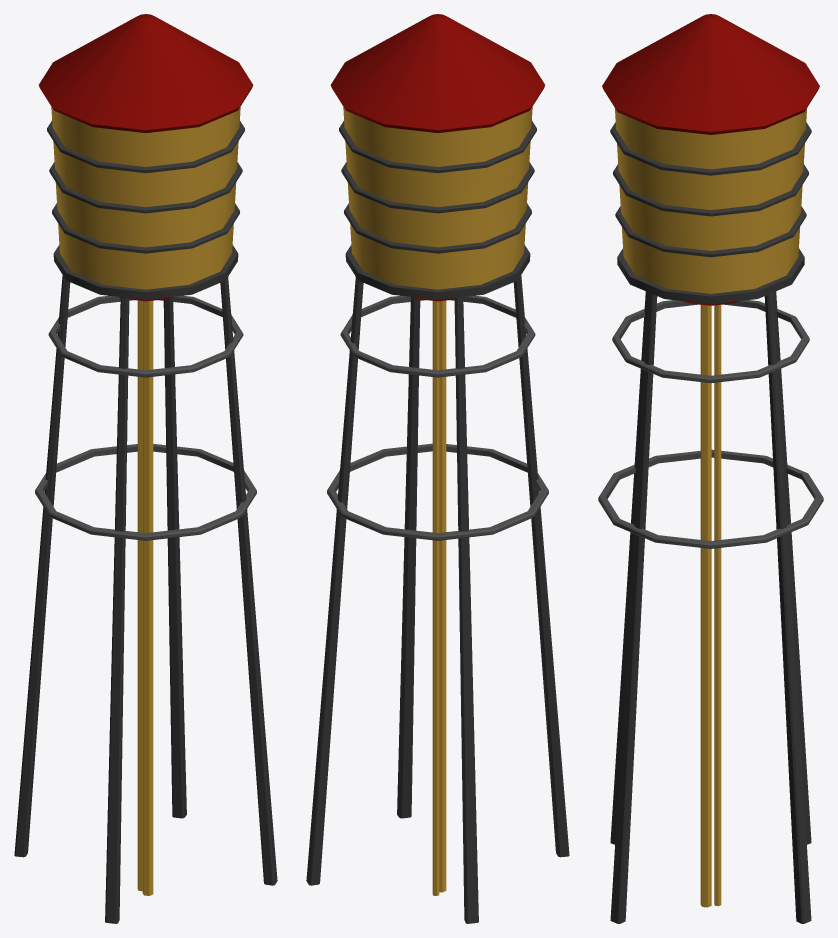
The model's file is WaterTank.fbx.
3 renders of one model, left to right at view 1: azimuth 30°, elevation 25°; view 2: azimuth 150°, elevation 25°; view 3: azimuth 270°, elevation 25°, orthographic.
Visible parts, largest first — view 1: Mesh; view 2: Mesh; view 3: Mesh.
Part boxes in pixels (x1,y1,x2,y2): Mesh: (14,14,277,923); Mesh: (306,14,569,923); Mesh: (598,14,823,923).
Size of the model in its own units: 773 by 3356 by 773.
